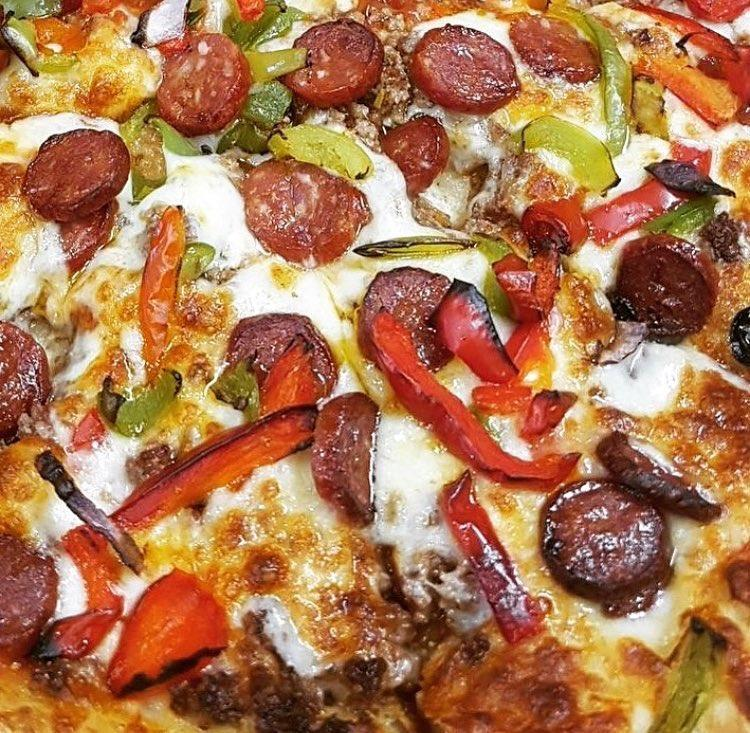Ham: (537, 434, 726, 603), (243, 157, 364, 261), (610, 234, 718, 344), (302, 394, 389, 529), (358, 268, 462, 376), (153, 30, 254, 137), (23, 128, 126, 216), (225, 313, 333, 395), (410, 25, 518, 106), (0, 535, 62, 663), (288, 20, 382, 100), (0, 323, 59, 443), (519, 7, 601, 81), (372, 117, 451, 192)
Peppers: (371, 310, 581, 488), (103, 394, 297, 532), (435, 488, 553, 645), (108, 573, 226, 697), (141, 198, 185, 398)
Pizza: (0, 0, 750, 733)
